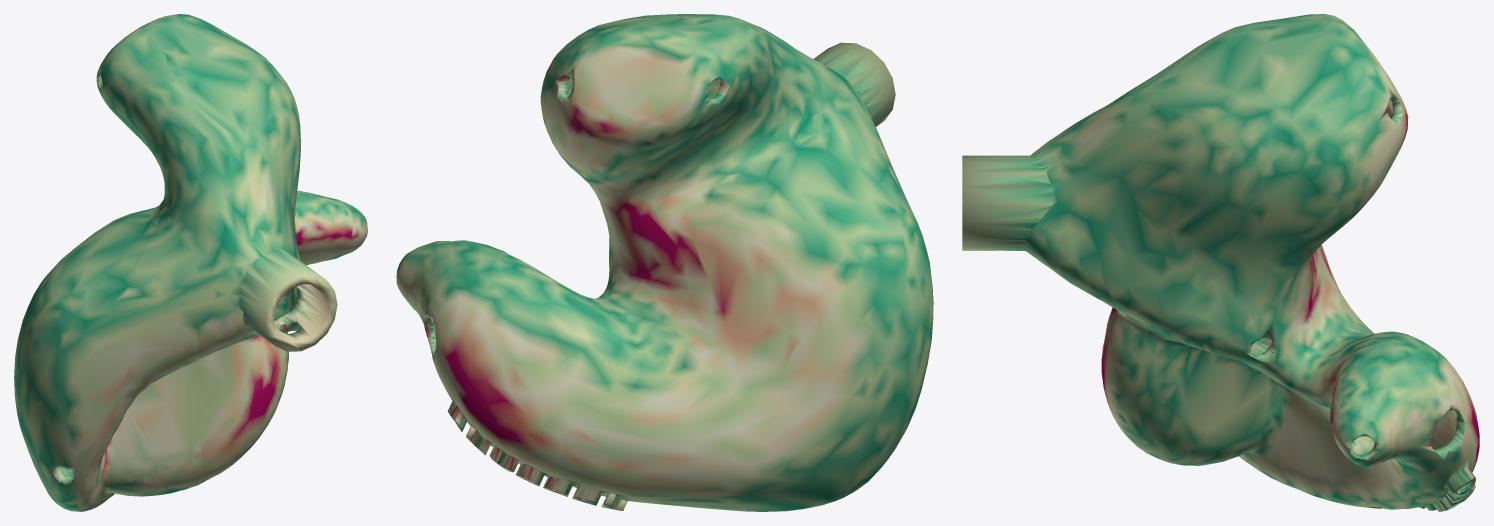
File: risk_model.glb
3 renders of one model, left to right at view 1: azimuth 30°, elevation 25°; view 2: azimuth 150°, elevation 25°; view 3: azimuth 270°, elevation 25°, orthographic. The views are drawn at different scales.
Parts seen in each view (by area): view 1: 0NXCCBL_SLA.stl; view 2: 0NXCCBL_SLA.stl; view 3: 0NXCCBL_SLA.stl.
Boxes of the visible parts, <box> form: 0NXCCBL_SLA.stl: <box>14,14,367,511</box>; 0NXCCBL_SLA.stl: <box>396,14,933,511</box>; 0NXCCBL_SLA.stl: <box>962,14,1479,511</box>.
Bounding box in the file's own units: 26.77 × 27.4 × 25.97.
